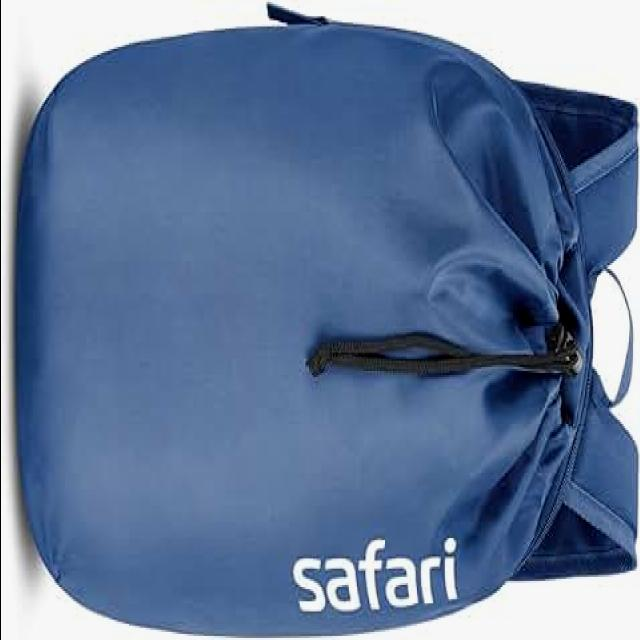backpack: (15, 1, 640, 639)
